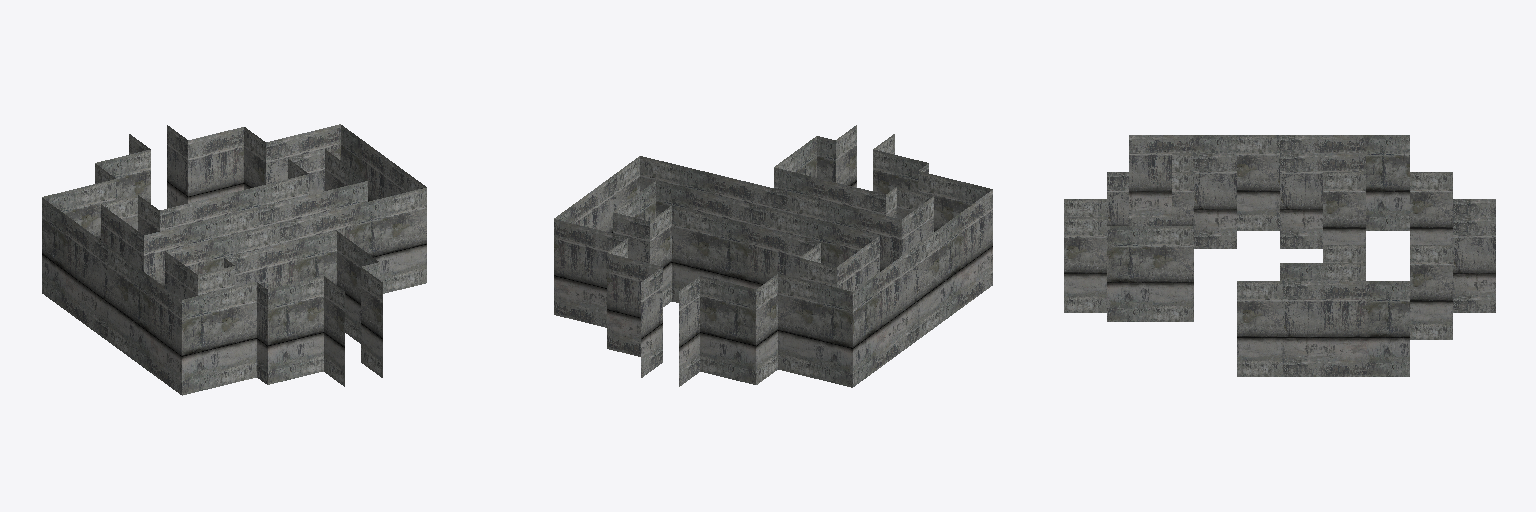
3 views of the same model, side by side, from view 1: azimuth 30°, elevation 25°; view 2: azimuth 150°, elevation 25°; view 3: azimuth 270°, elevation 25° (orthographic).
Parts seen in each view (by area): view 1: Room; view 2: Room; view 3: Room.
Part boxes in pixels (x1,y1,x2,y2): Room: (42, 124, 426, 395); Room: (554, 125, 992, 387); Room: (1064, 135, 1495, 376).
Size of the model in its own units: 8 by 2.45 by 10.
1 materials, 1 textured.